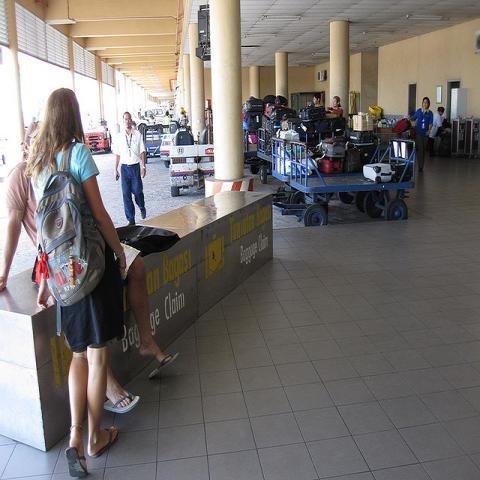car: (83, 121, 112, 153), (139, 108, 170, 124)
